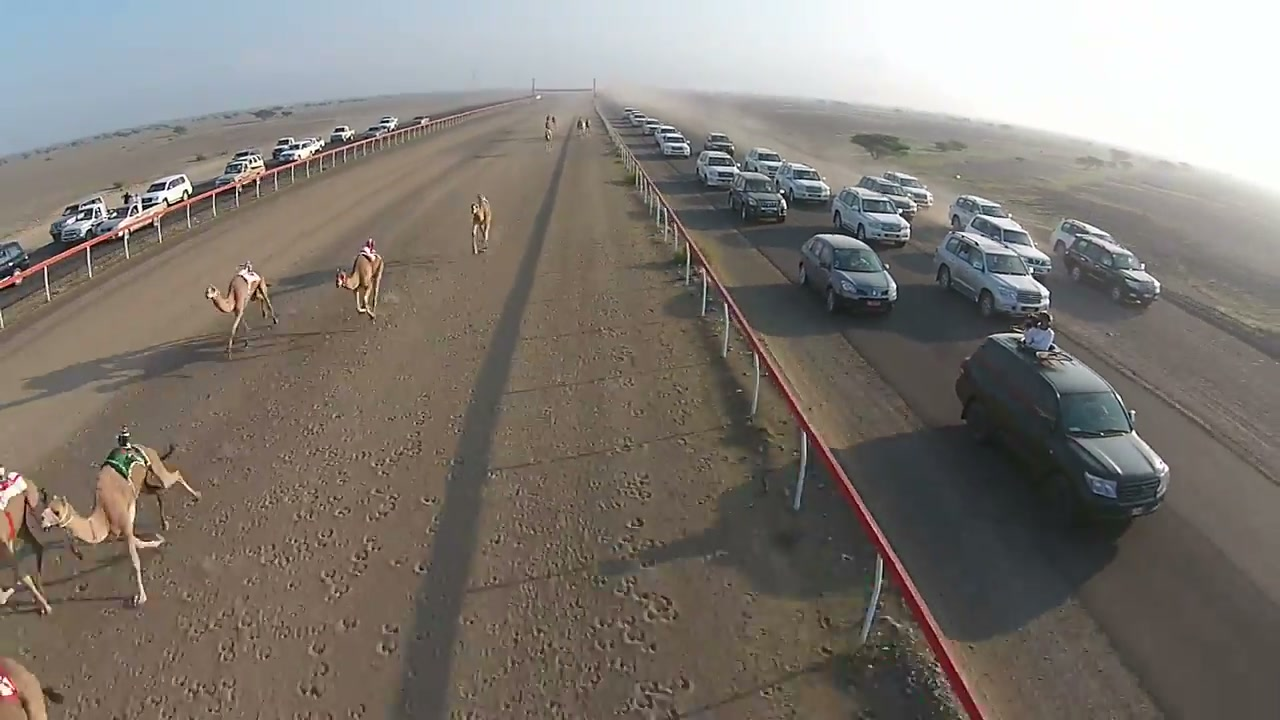animal_footprint: (168, 326, 431, 713), (558, 371, 704, 715)
